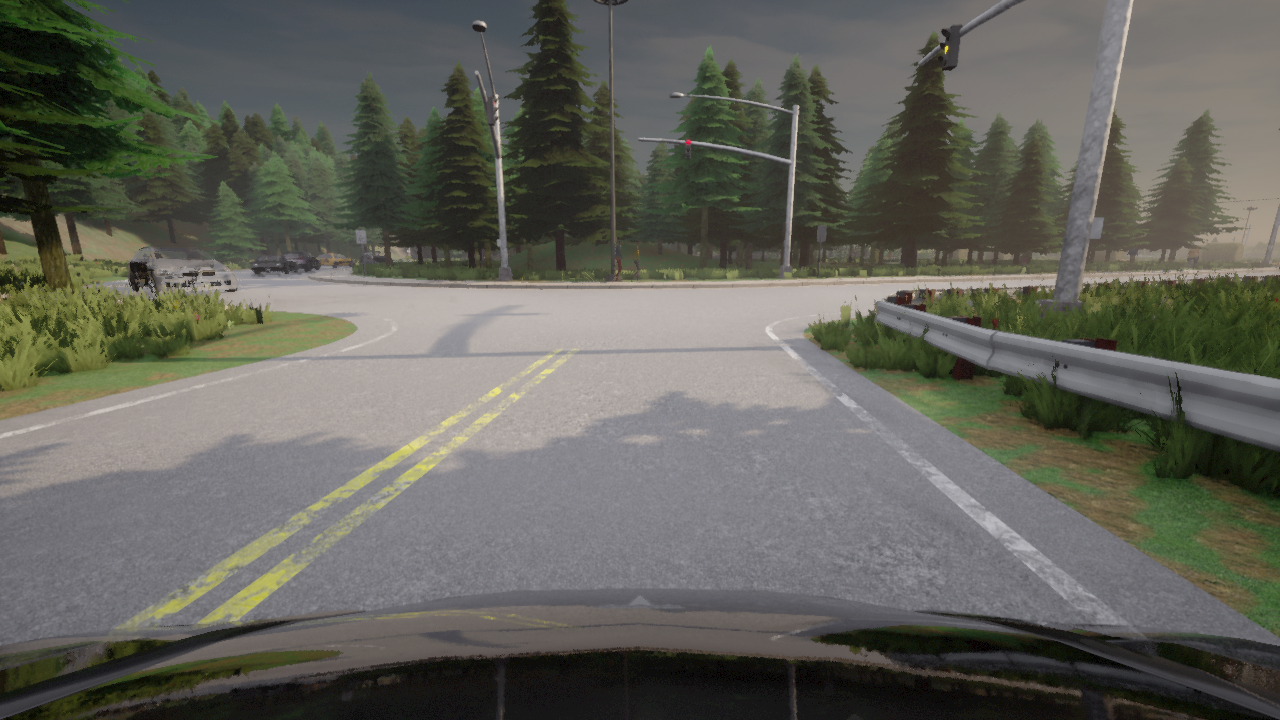cyclist: (0, 588, 1279, 719), (129, 245, 238, 296), (250, 255, 297, 274), (283, 251, 320, 271), (316, 252, 355, 268), (359, 252, 392, 264)
pedestrian: (630, 240, 642, 282), (1125, 244, 1139, 272), (615, 239, 624, 282), (1186, 244, 1200, 271), (1019, 254, 1027, 275), (1179, 256, 1185, 270)
